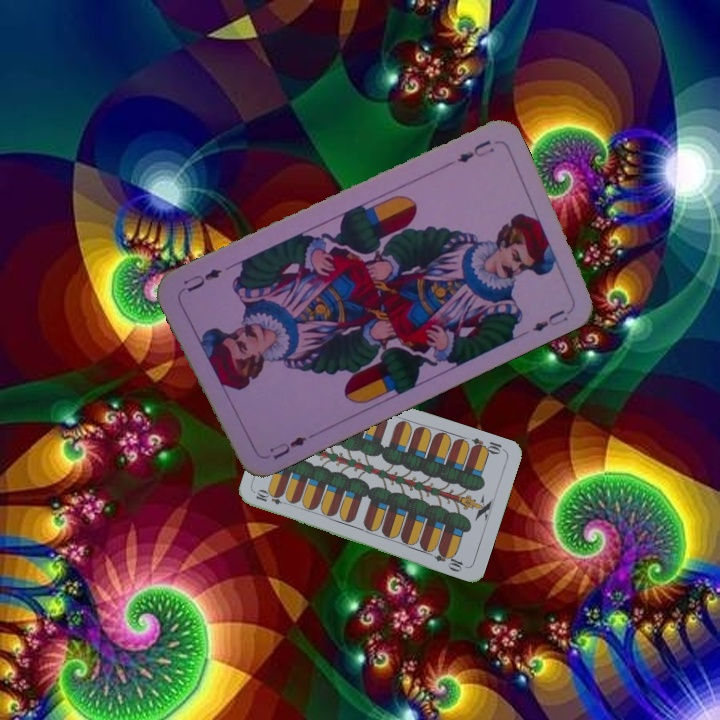E10: (467, 434, 508, 457), (252, 487, 292, 508)
EU: (452, 135, 497, 166), (265, 432, 310, 462)
